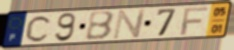7: (155, 8, 180, 38)
9: (54, 11, 78, 43)
B: (84, 10, 116, 41)
C: (24, 14, 54, 44)
F: (179, 6, 210, 36)
N: (111, 8, 148, 41)
